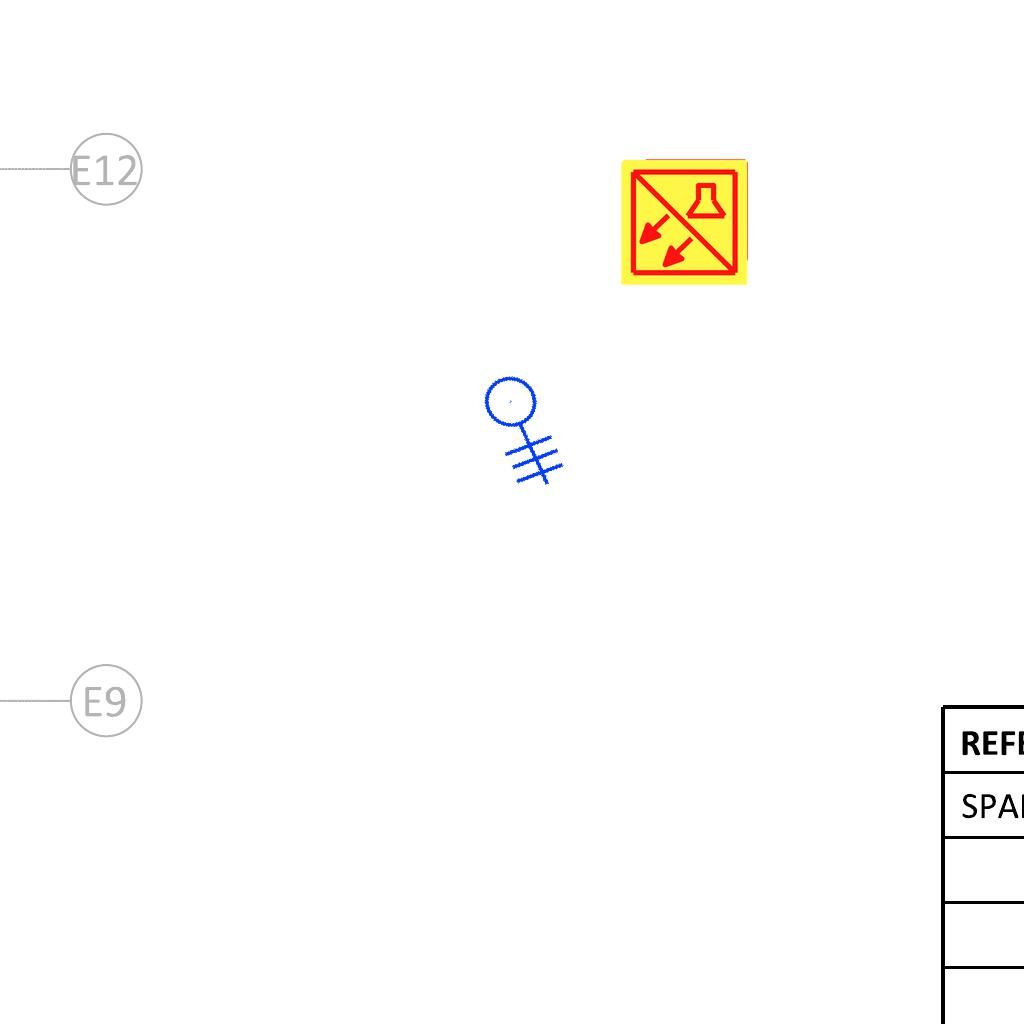Elektroanschluss_allgemein_400V_Geraeteanschlussdose_400V: (457, 352, 607, 503)
OKW_Multisensormelder_(Kombination_optischer_Rauch-Kahlenmonoxid_Waerme-Melder): (618, 156, 750, 288)
